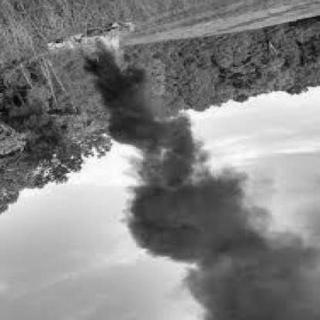Fire: (61, 26, 147, 82)
Smoke: (98, 84, 304, 320)
